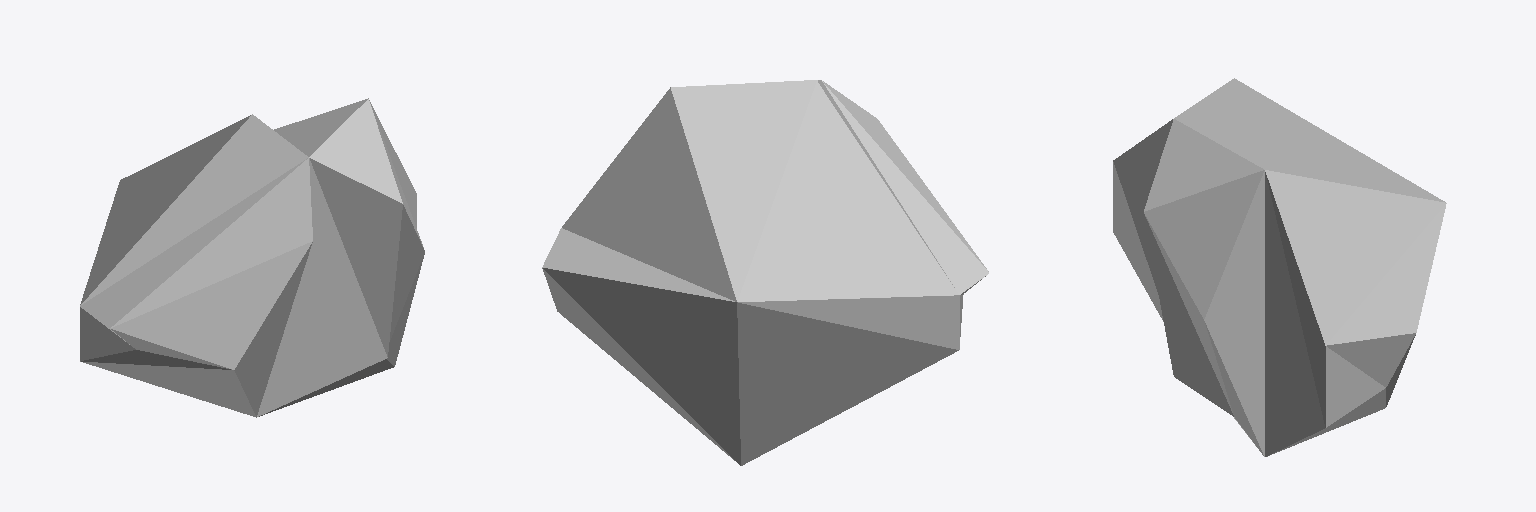
The model's file is asteroid2.obj.
3 views of the same model, side by side, from view 1: azimuth 30°, elevation 25°; view 2: azimuth 150°, elevation 25°; view 3: azimuth 270°, elevation 25° (orthographic).
Parts seen in each view (by area): view 1: Cube; view 2: Cube; view 3: Cube.
Boxes of the visible parts, box(x1,y1,x2,y2) form: Cube: box(80, 98, 424, 417); Cube: box(542, 80, 988, 465); Cube: box(1113, 78, 1446, 456).
Size of the model in its own units: 14 by 12 by 11.